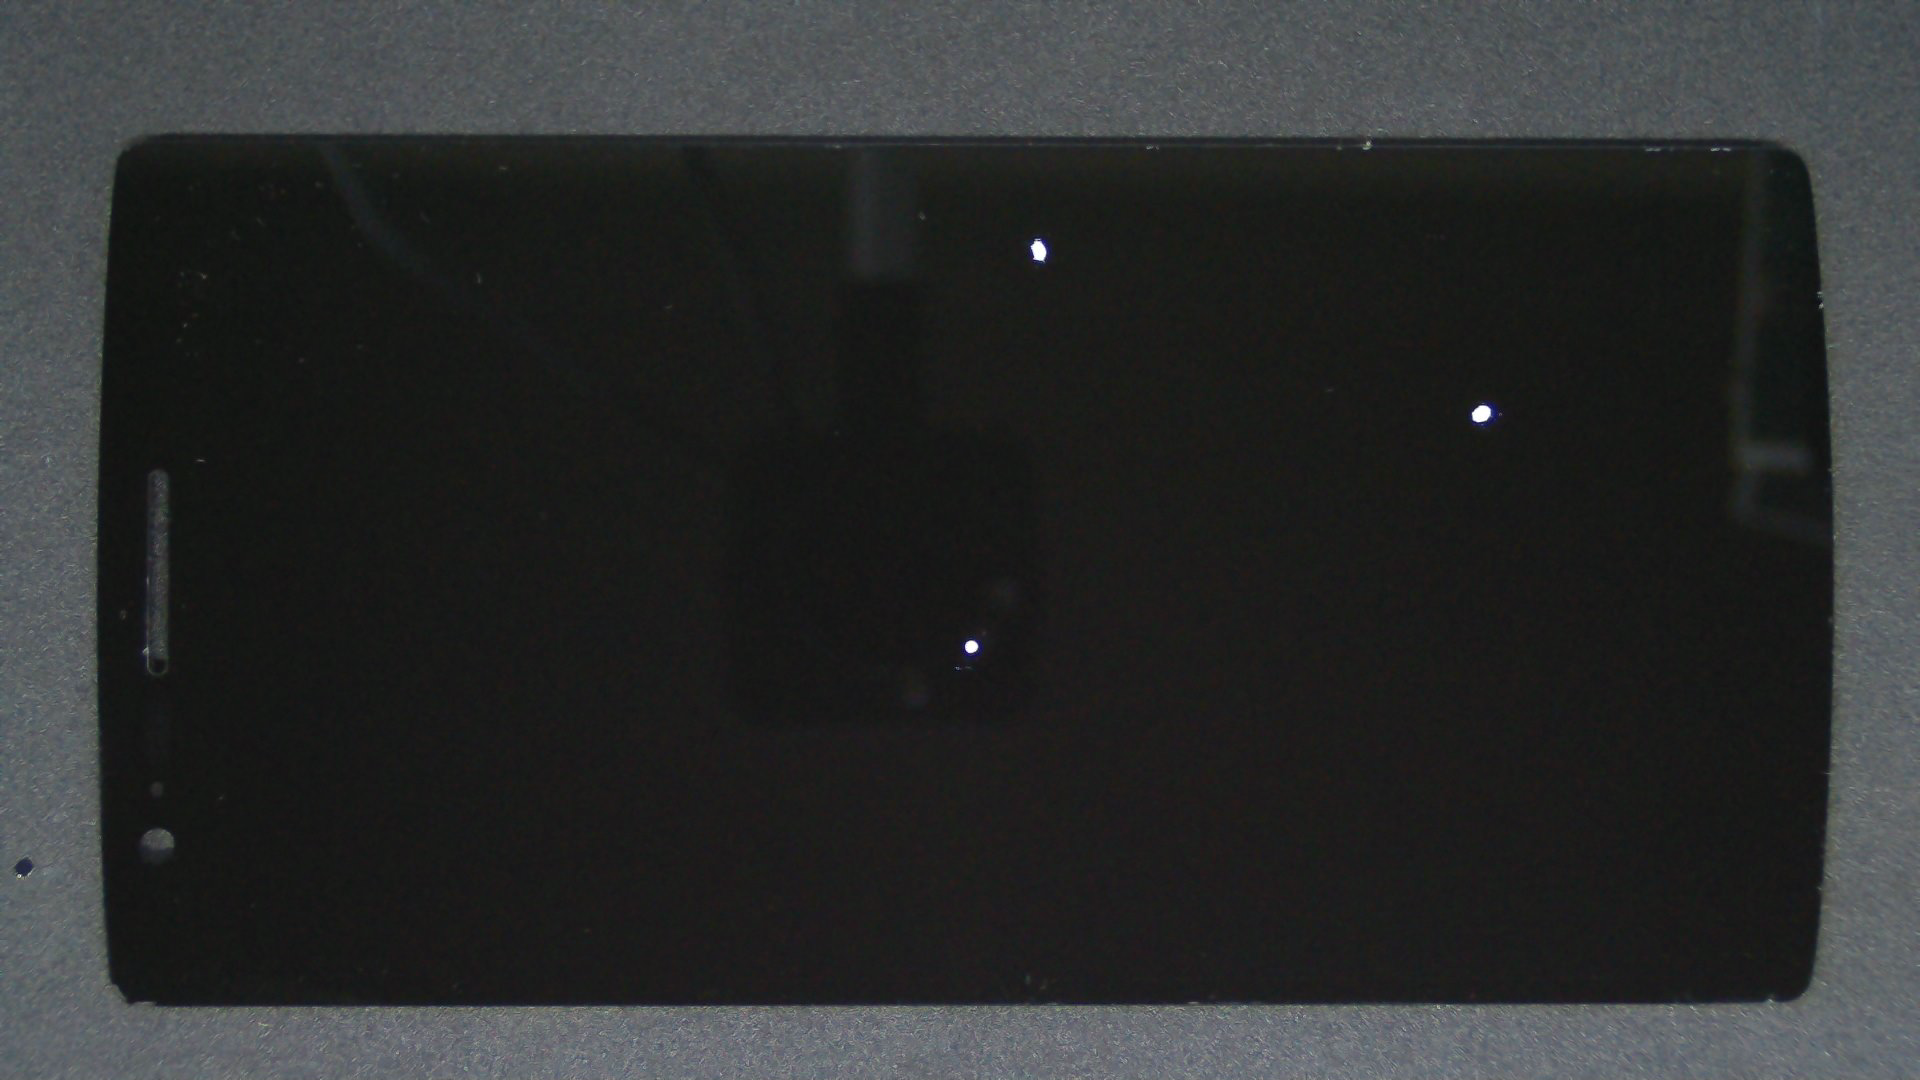defect: (1027, 237, 1050, 264), (1469, 404, 1491, 425), (963, 640, 980, 654)
